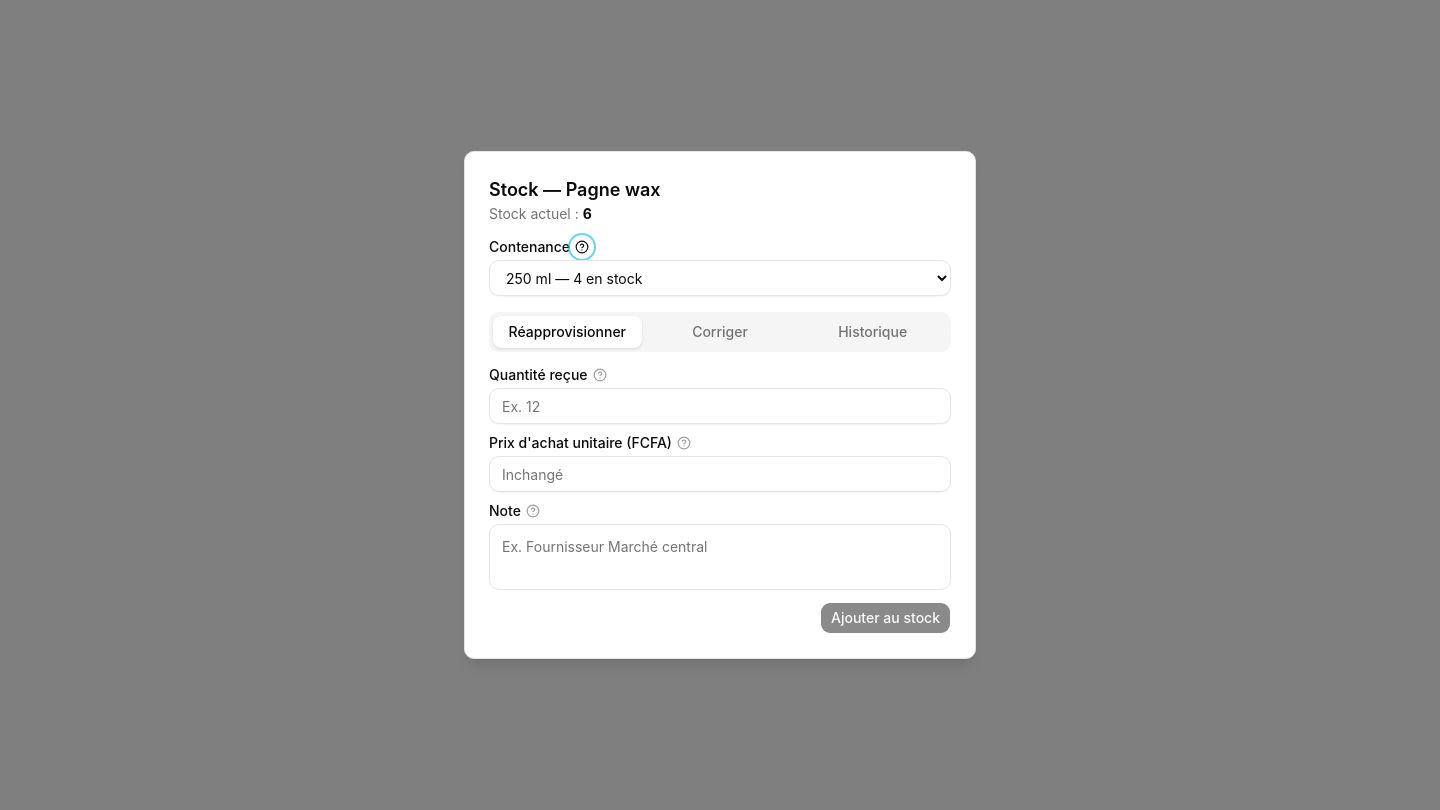
Test: StockDialog › restocks and corrects one version at a time, keeping the total
Select "500 ml — 2 en stock" in the dropdown labelled "Contenance" at {"x": 720, "y": 278}, box x1=489 y1=260 x2=951 y2=296
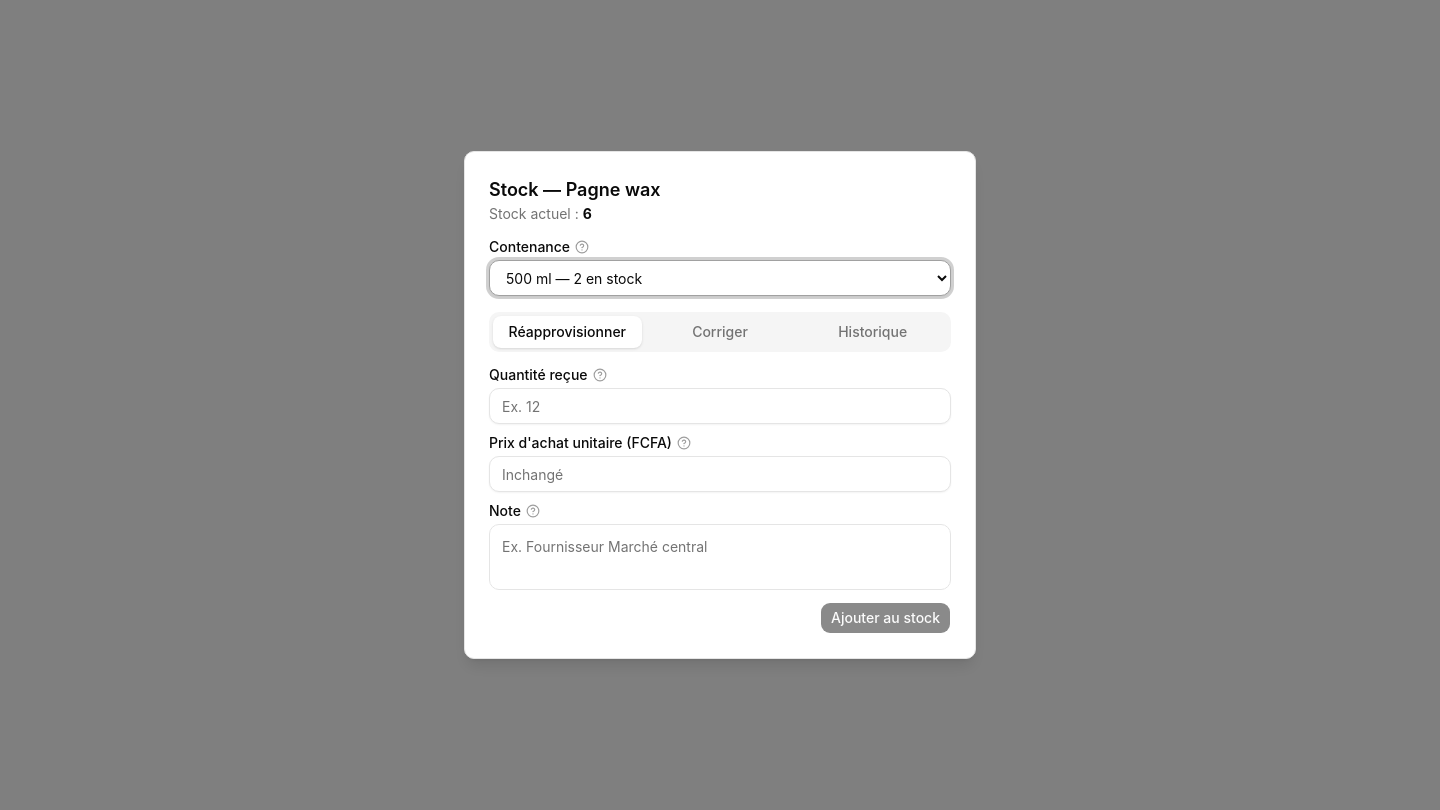
Type "4" into the field labelled "Quantité reçue" at {"x": 720, "y": 406}, box x1=489 y1=388 x2=951 y2=424
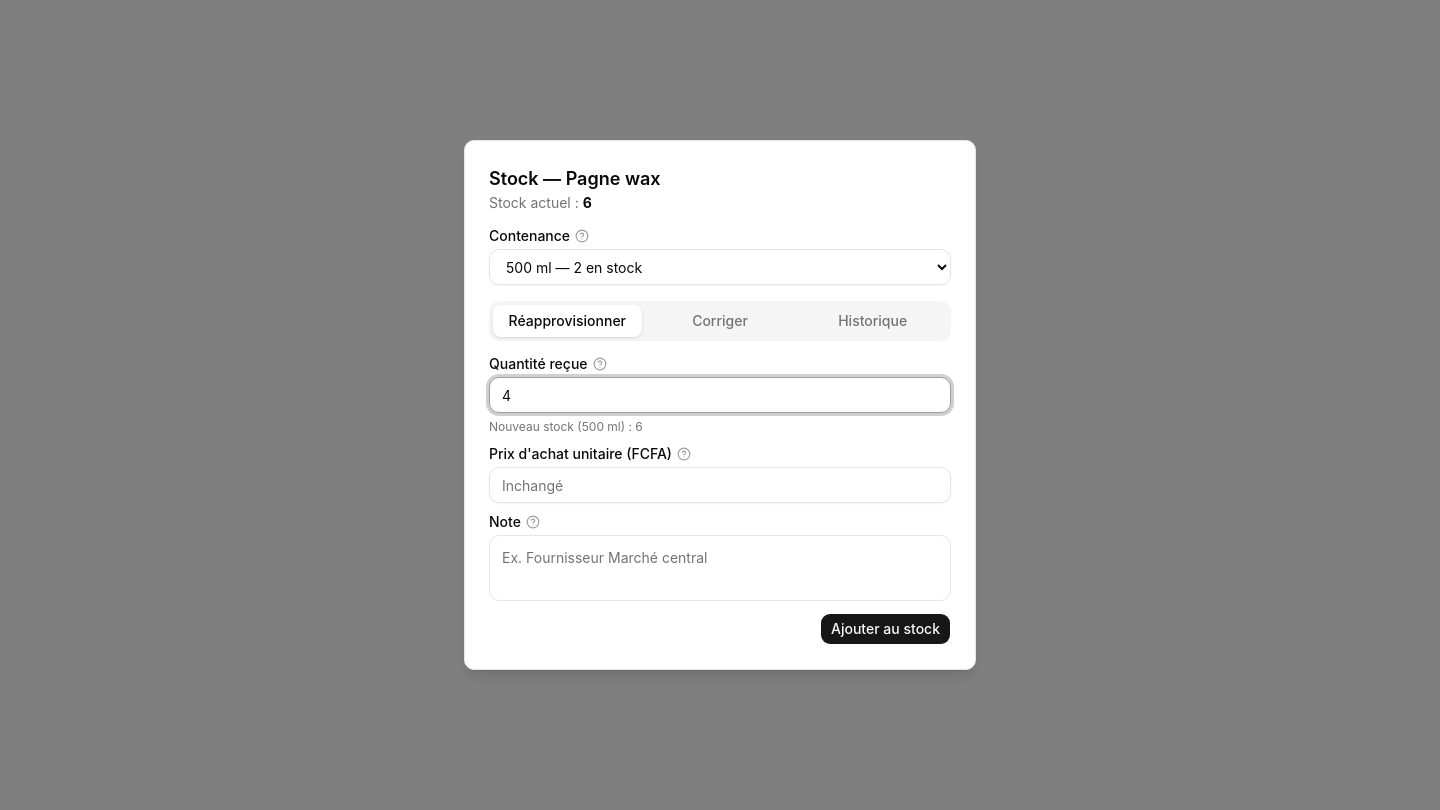
Now the text "Nouveau stock (500 ml) : 6" is shown, box x1=489 y1=419 x2=643 y2=434
Click the button "Ajouter au stock" at {"x": 886, "y": 629}, box x1=820 y1=613 x2=951 y2=645
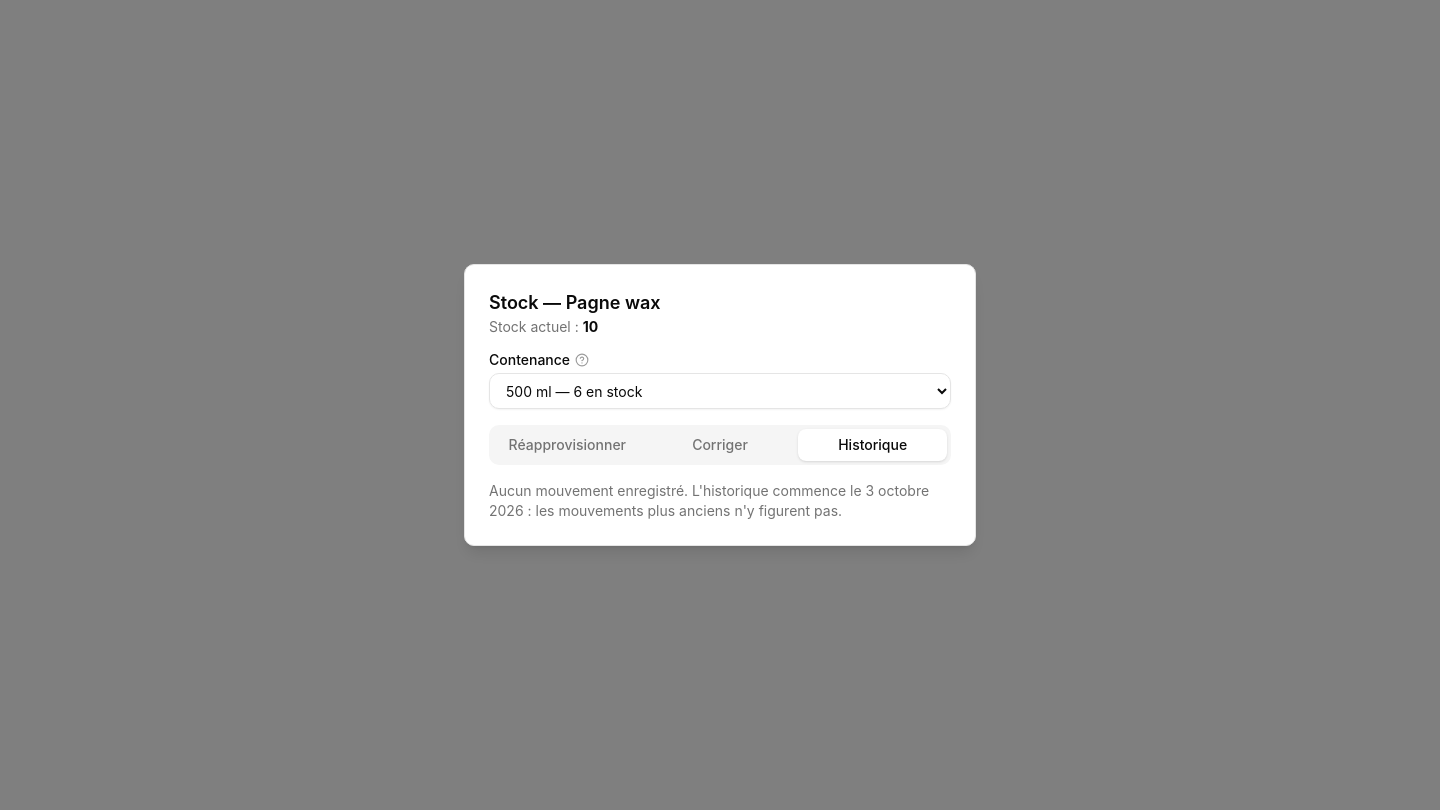
Now the text with test id "current-stock" reads "10", box x1=583 y1=318 x2=598 y2=335
